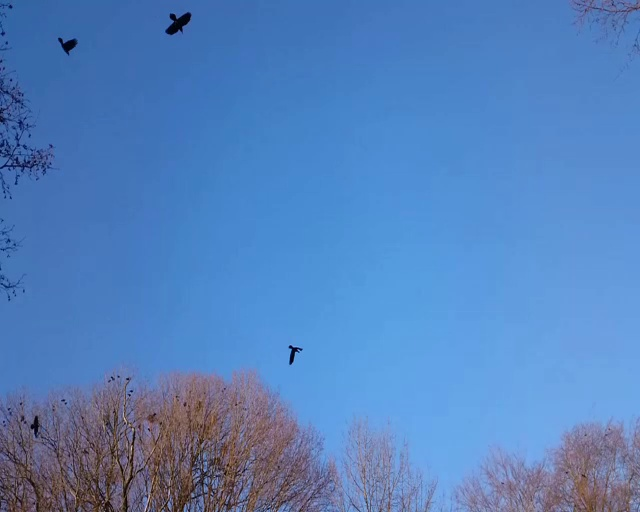BIRD: (57, 37, 77, 55)
